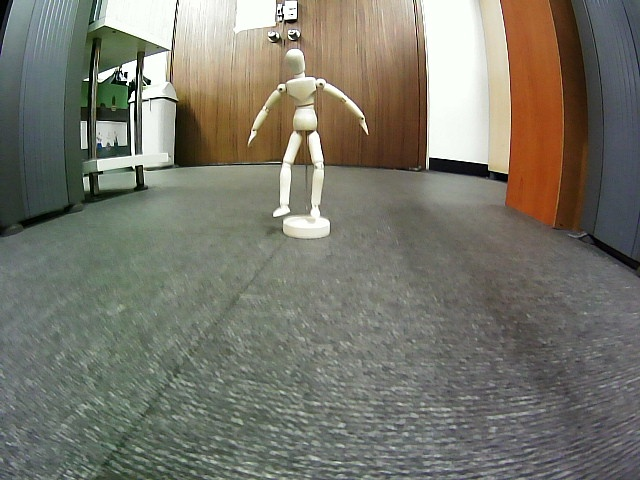person: (246, 49, 368, 218)
